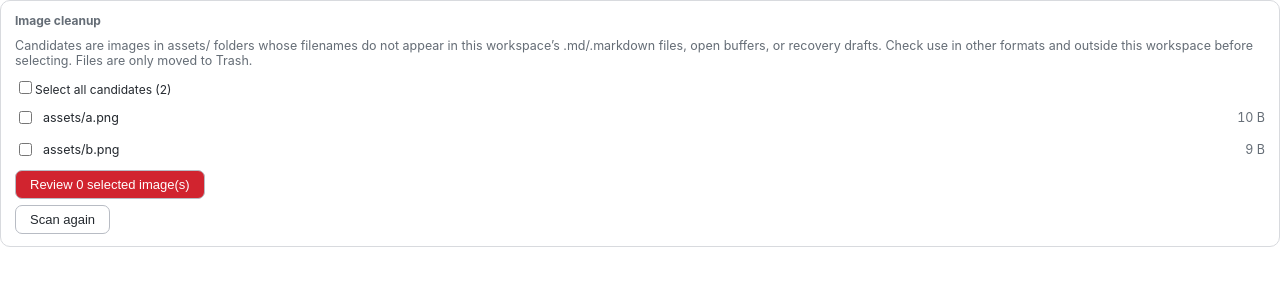
Test case: 이미지 정리 검토 › 열린 버퍼를 전달하고 선택한 파일만 확인 후 이동한다
expect the button with class "btn-danger" is disabled: met, box left=15, top=170, right=205, bottom=199
What coordinates should you click on to do the following:
click the checkbox labelled "assets/a.png 10 B"
I would click on:
 (26, 118)
Its box is left=19, top=111, right=32, bottom=124.
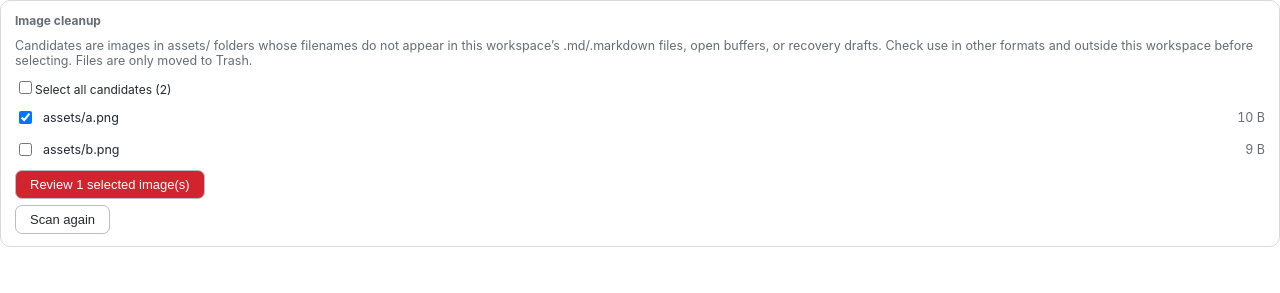
What coordinates should you click on to do the following:
click the button with class "btn-danger"
I would click on:
 (110, 184)
Its box is left=15, top=170, right=205, bottom=199.
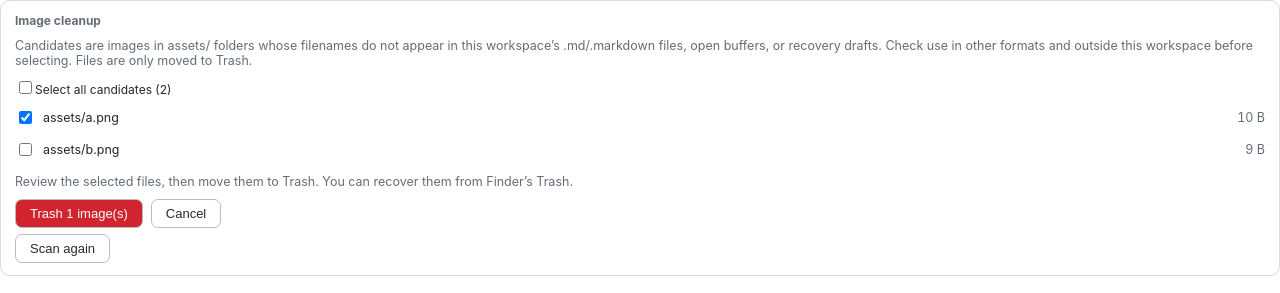
What coordinates should you click on to do the following:
click the button with class "btn-danger"
I would click on:
 (79, 214)
Its box is left=15, top=199, right=143, bottom=228.
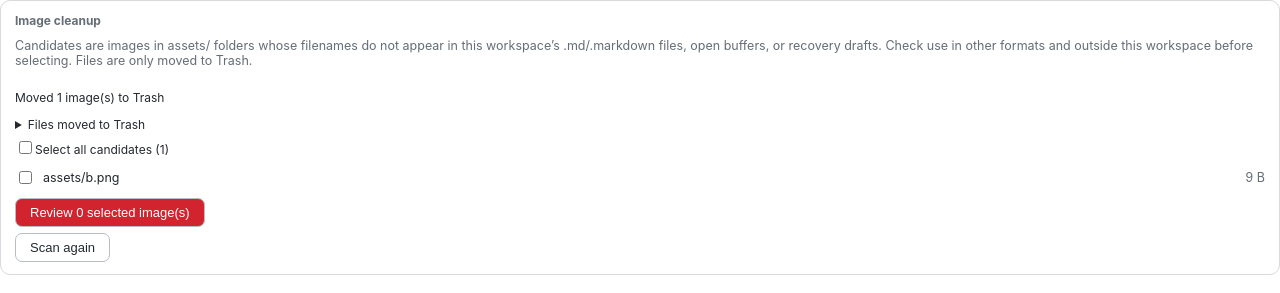
expect the list with class "review-orphans" shows "b.png": met, box left=43, top=170, right=120, bottom=185
expect the number of list items is 1: met, box left=19, top=170, right=1265, bottom=185
